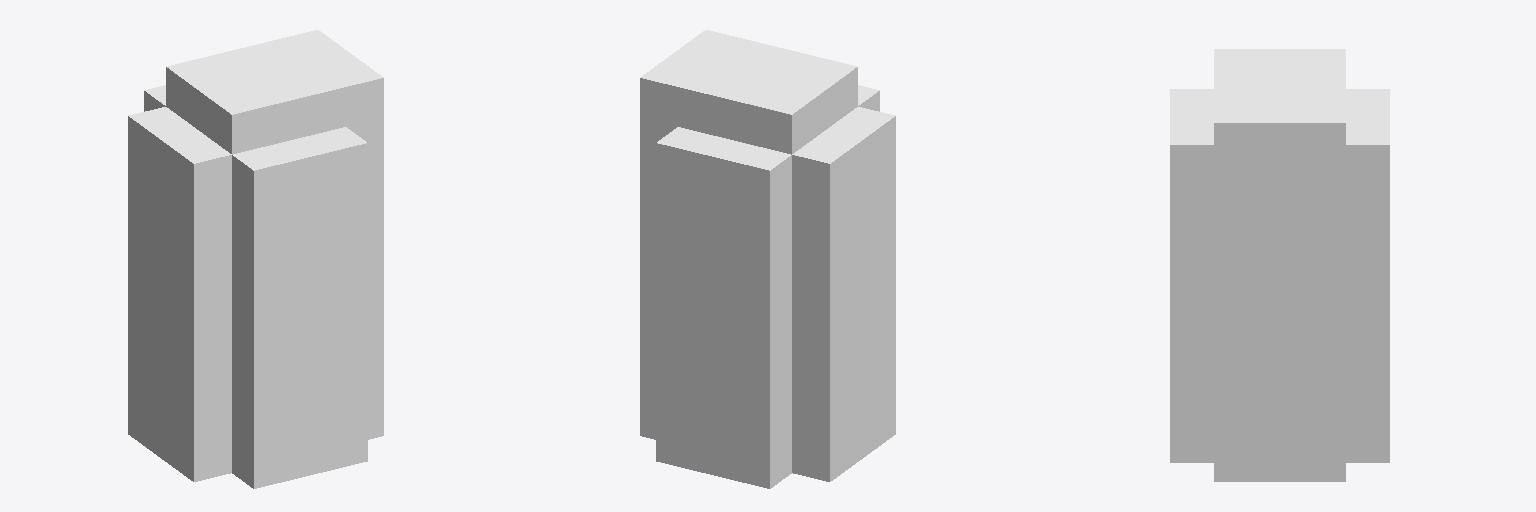
File: myCharacter-3.obj
The picture shows the model from 3 angles: view 1: azimuth 30°, elevation 25°; view 2: azimuth 150°, elevation 25°; view 3: azimuth 270°, elevation 25°; orthographic projection.
Parts seen in each view (by area): view 1: object 1; view 2: object 1; view 3: object 1.
Boxes of the visible parts, <box> form: object 1: <box>128,30,383,488</box>; object 1: <box>640,30,895,488</box>; object 1: <box>1170,49,1389,481</box>.
Bounding box in the file's own units: 0.5 × 0.9 × 0.5.